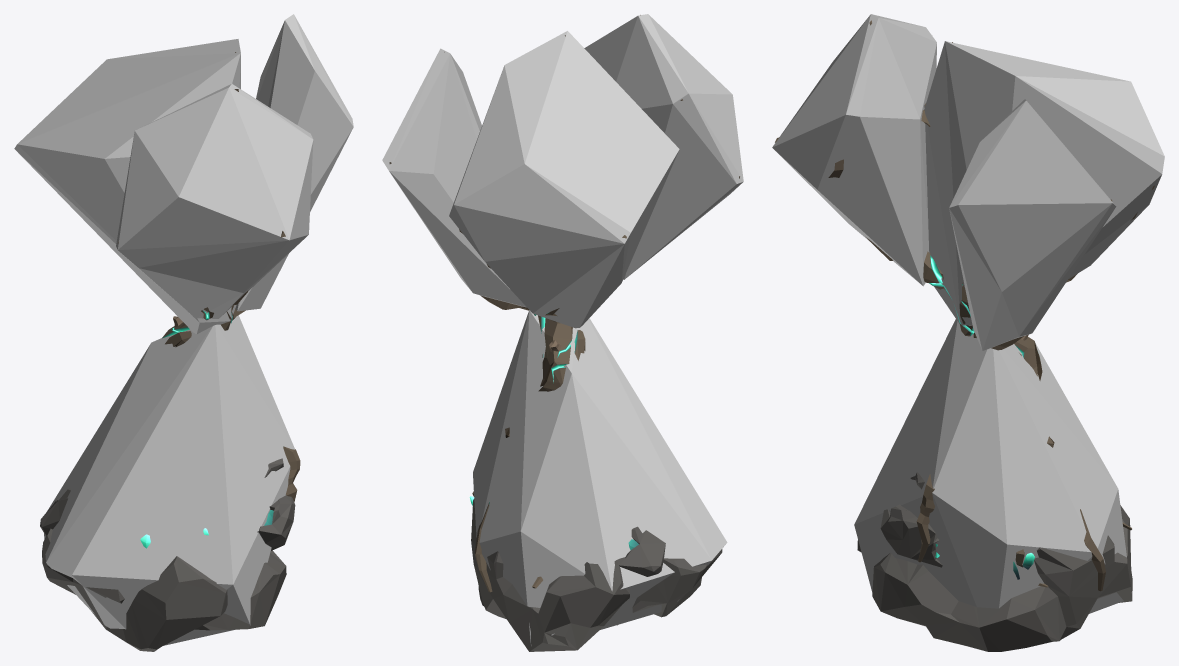
Rendered from SM_Env_Tree_Glowing_01.fbx.
3 renders of one model, left to right at view 1: azimuth 30°, elevation 25°; view 2: azimuth 150°, elevation 25°; view 3: azimuth 270°, elevation 25°, orthographic. The views are drawn at different scales.
Visible parts, largest first — view 1: SM_Env_Tree_Glowing_01_ConvexHulls, SM_Env_Tree_Glowing_01; view 2: SM_Env_Tree_Glowing_01_ConvexHulls, SM_Env_Tree_Glowing_01; view 3: SM_Env_Tree_Glowing_01_ConvexHulls, SM_Env_Tree_Glowing_01.
Part boxes in pixels (x1,y1,x2,y2): SM_Env_Tree_Glowing_01_ConvexHulls: (14, 14, 353, 645); SM_Env_Tree_Glowing_01: (40, 52, 300, 651); SM_Env_Tree_Glowing_01_ConvexHulls: (382, 14, 743, 646); SM_Env_Tree_Glowing_01: (389, 15, 739, 651); SM_Env_Tree_Glowing_01_ConvexHulls: (772, 14, 1164, 613); SM_Env_Tree_Glowing_01: (775, 20, 1154, 651).
Bounding box in the file's own units: 718 × 807 × 1355.
Materials: 2 (1 with a texture image).
